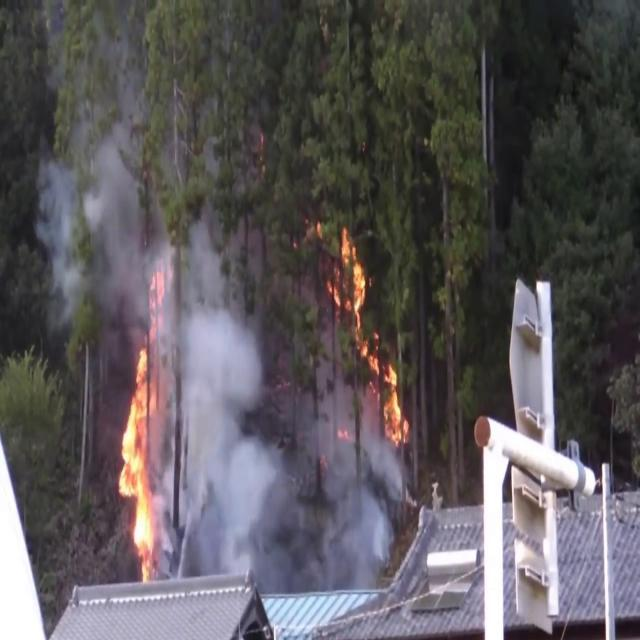Fire: (115, 340, 162, 576), (329, 223, 386, 379), (378, 346, 409, 456)
Smoke: (165, 260, 296, 592), (33, 105, 159, 330), (293, 378, 412, 588)
